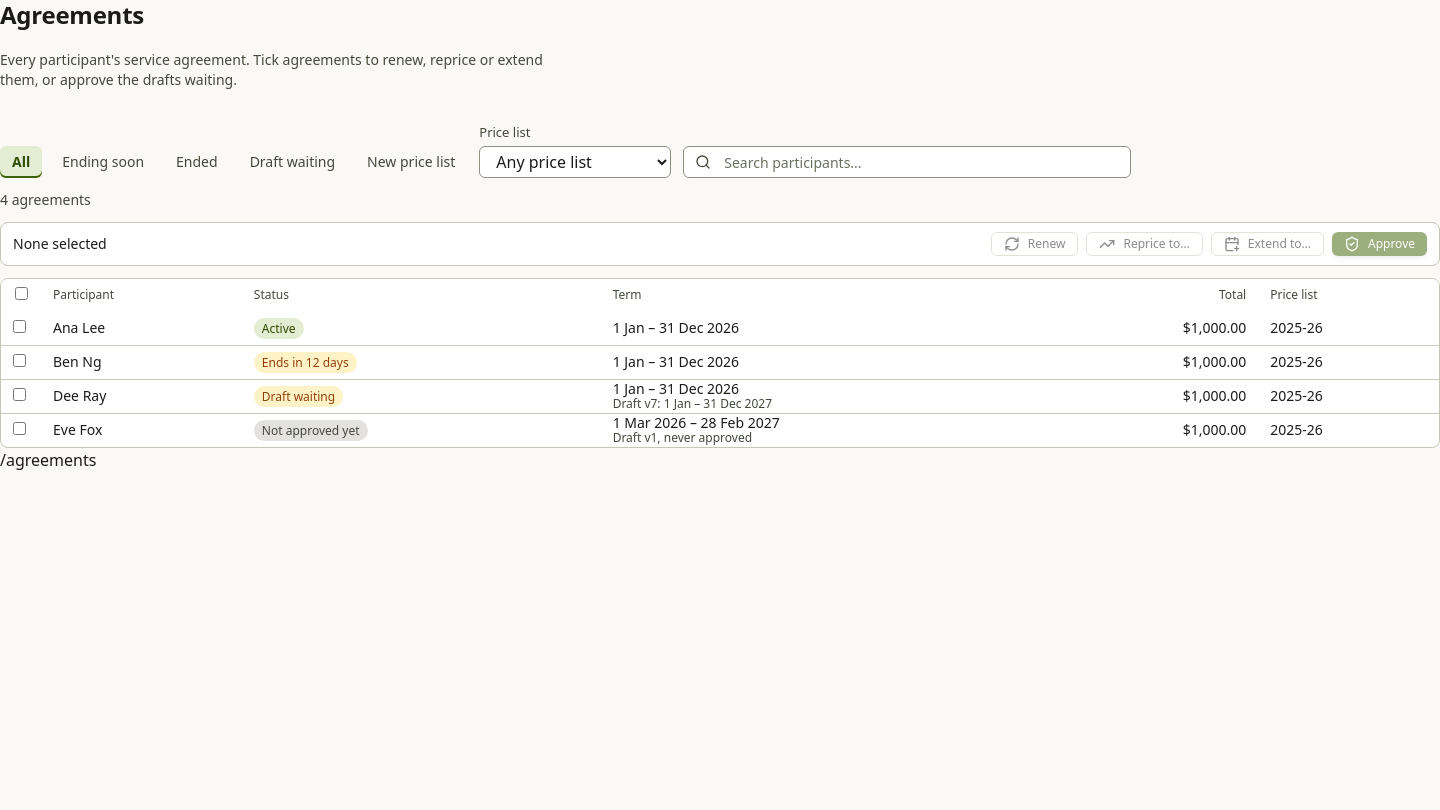
Test case: AgreementsPage › leaves Approve on for a retry after any other error
Click the checkbox named "Select row Dee Ray". click: click(20, 395)
box: [13, 388, 26, 401]
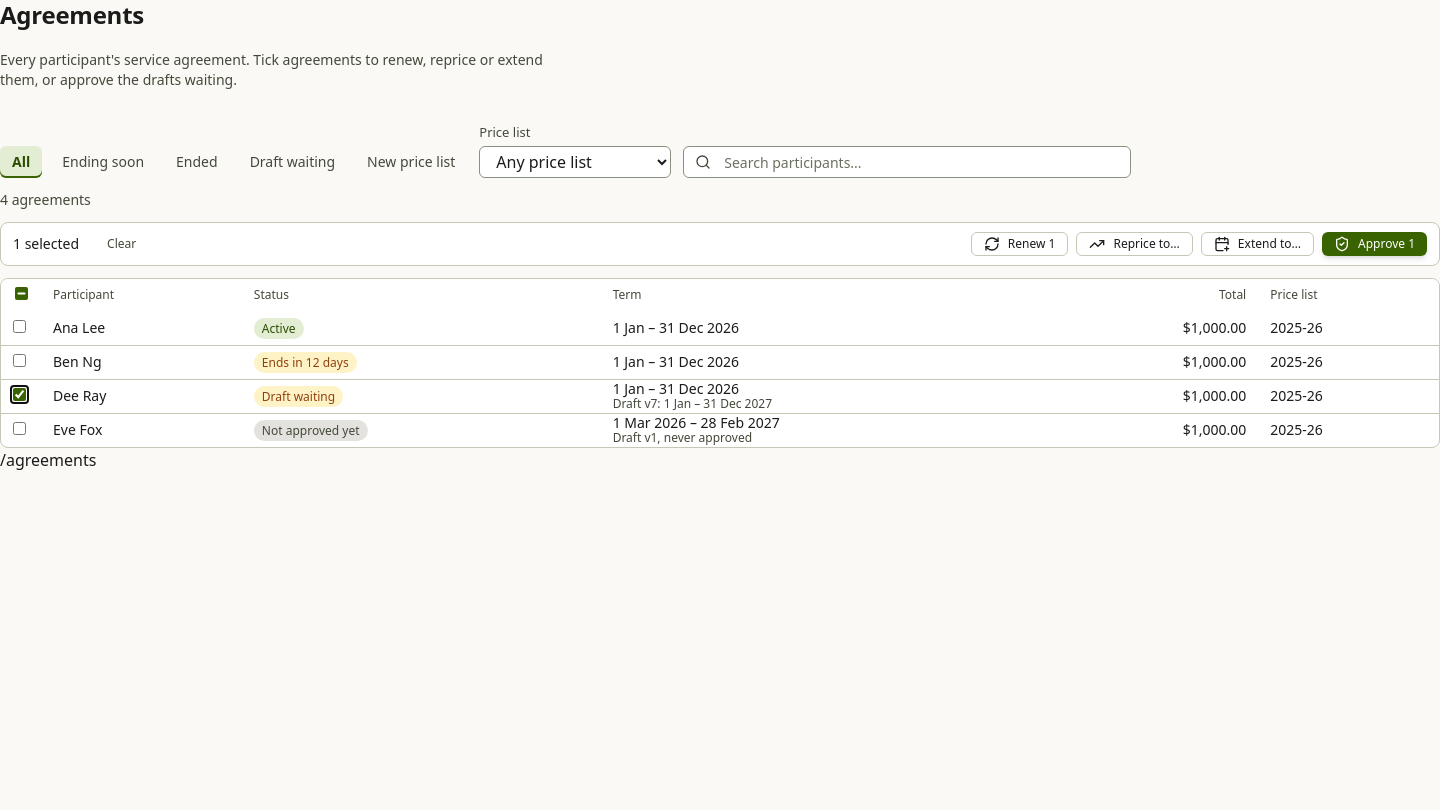
Click the button "Approve 1". click: click(1374, 244)
box: [1322, 232, 1427, 256]
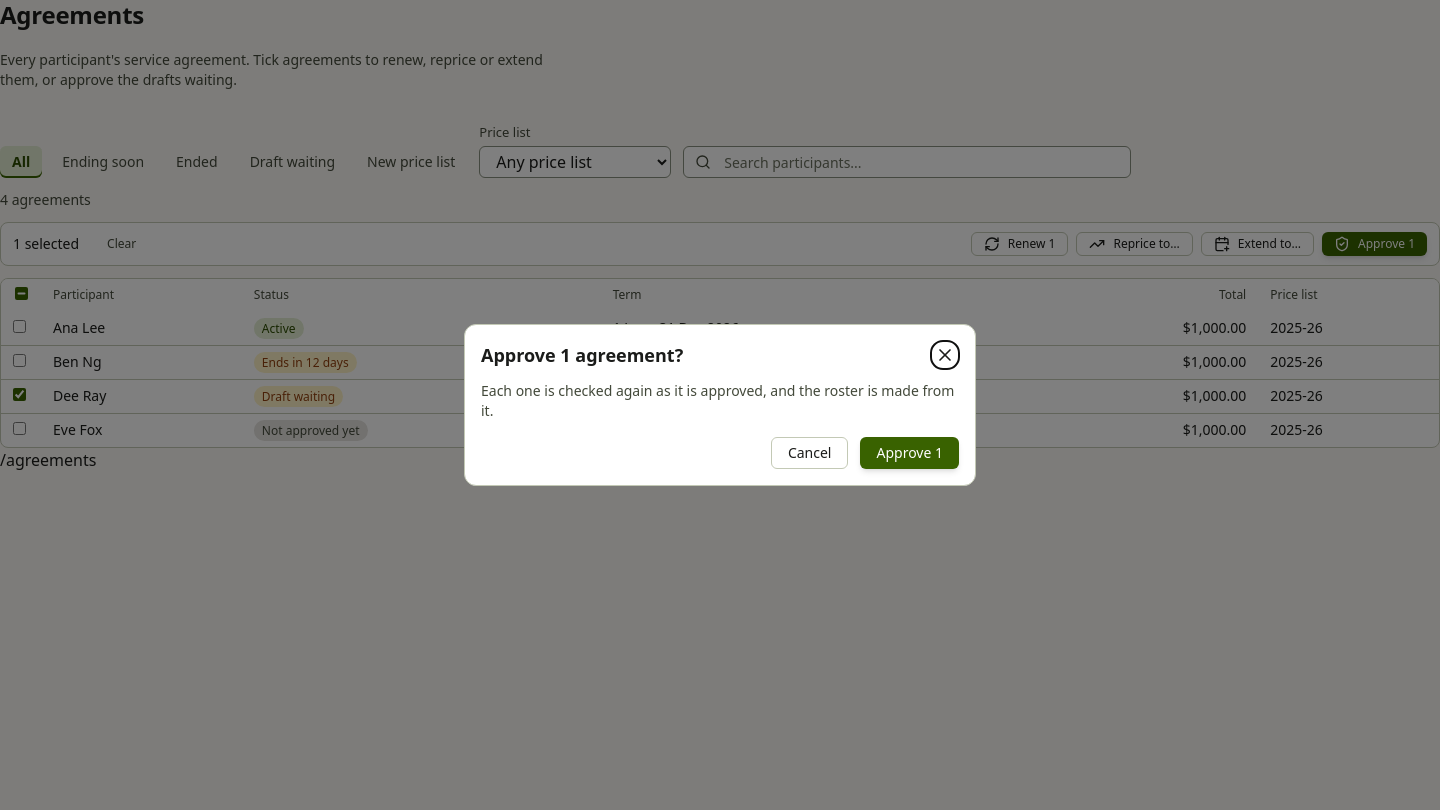
Click the button "Approve 1". click: click(910, 453)
box: [860, 437, 959, 469]
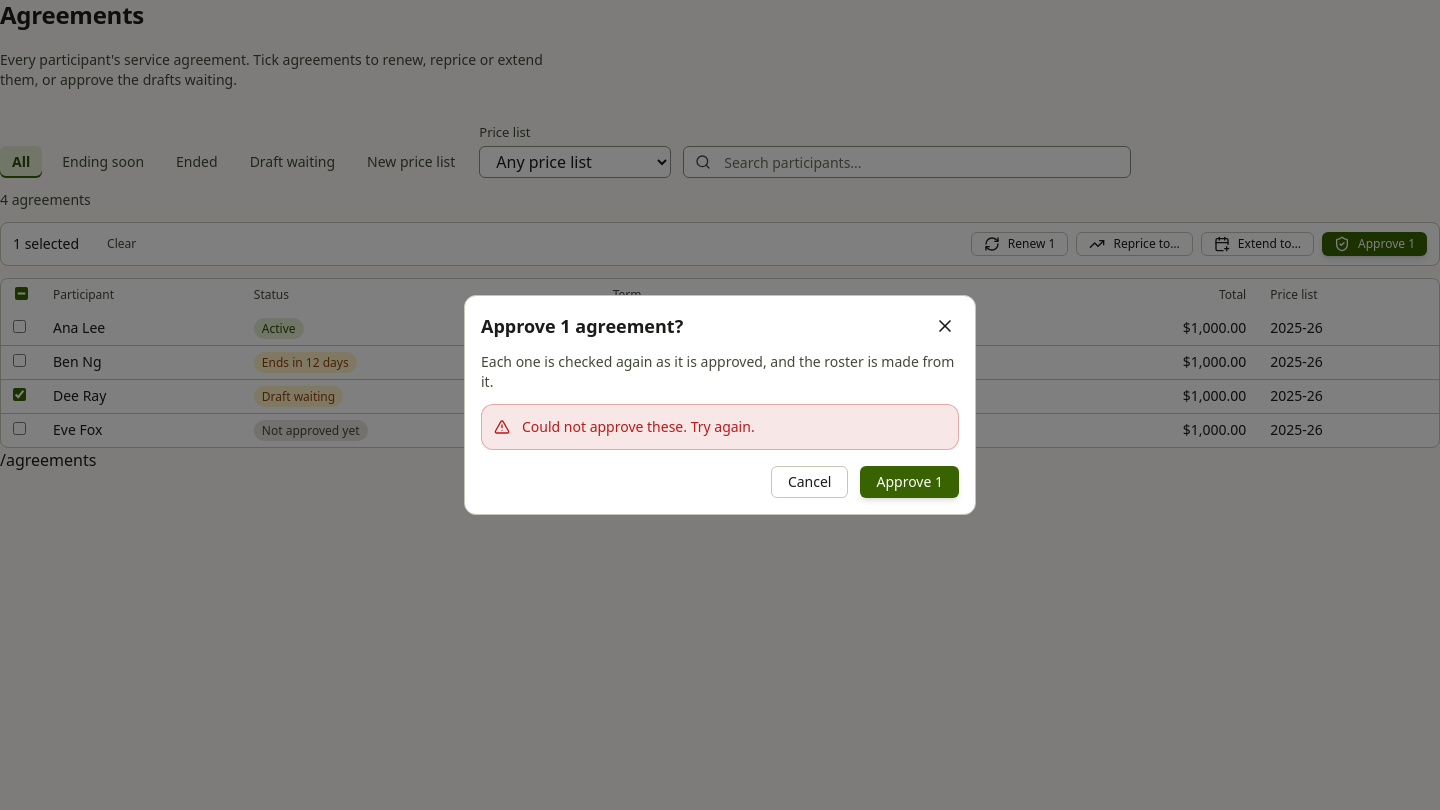
expect the button "Approve 1" is enabled: met, box [860, 466, 959, 498]
expect the text "Could not approve these. Try again." is shown: met, box [522, 417, 755, 436]
